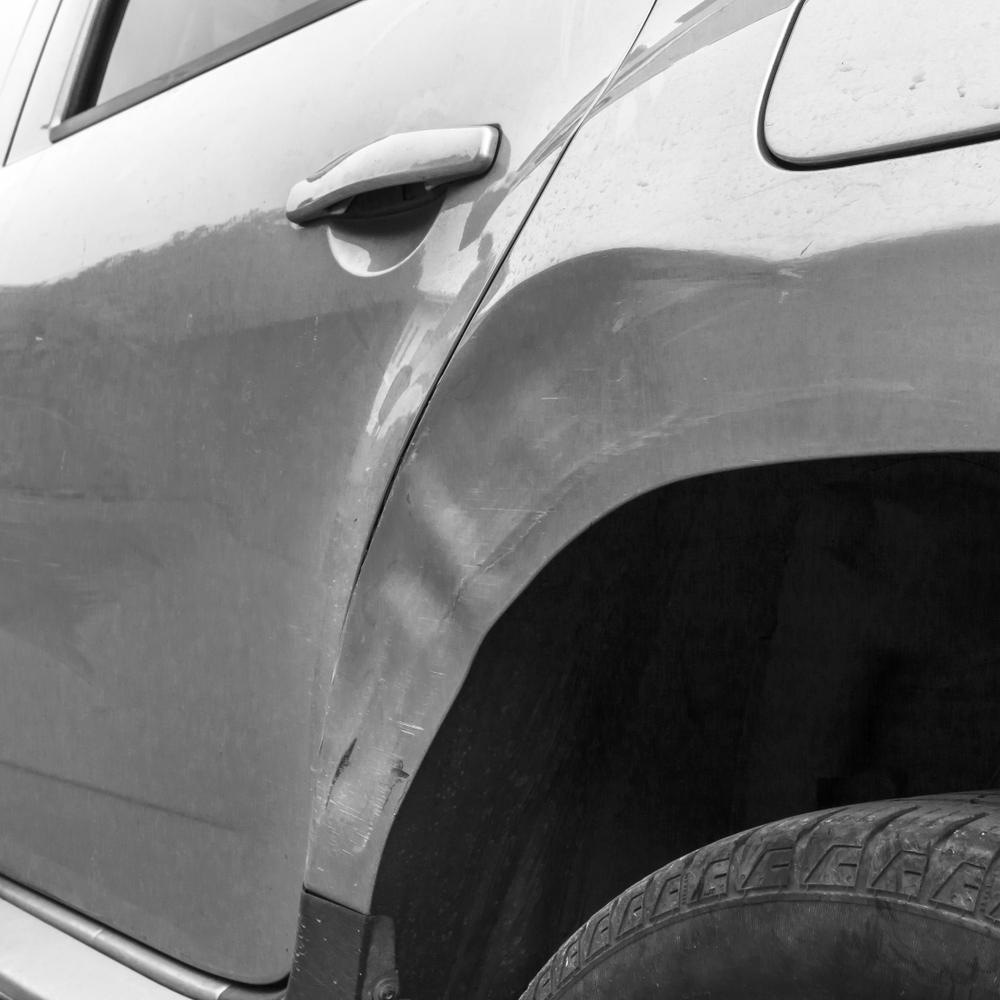dent: (312, 251, 823, 823)
